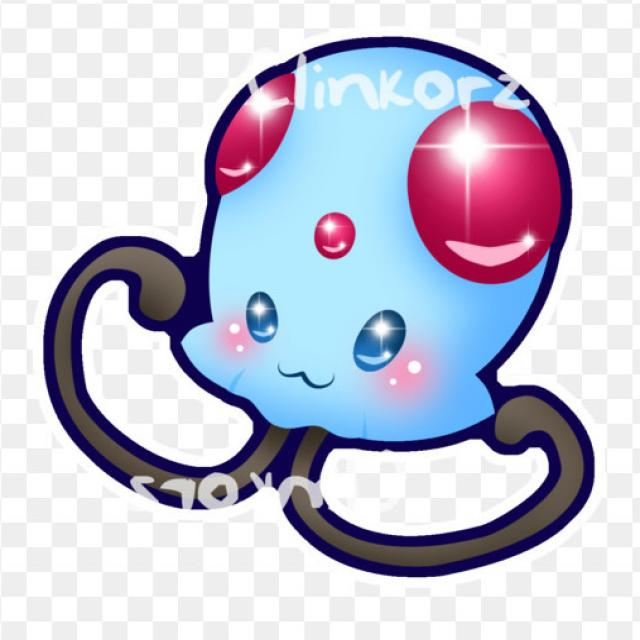Tentacool: (139, 41, 577, 568)
